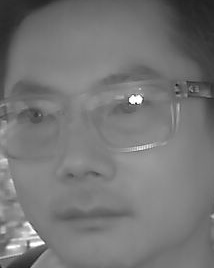eye: (13, 105, 57, 129)
glass: (83, 80, 178, 152), (2, 91, 70, 161)
mouth: (54, 198, 124, 237)
